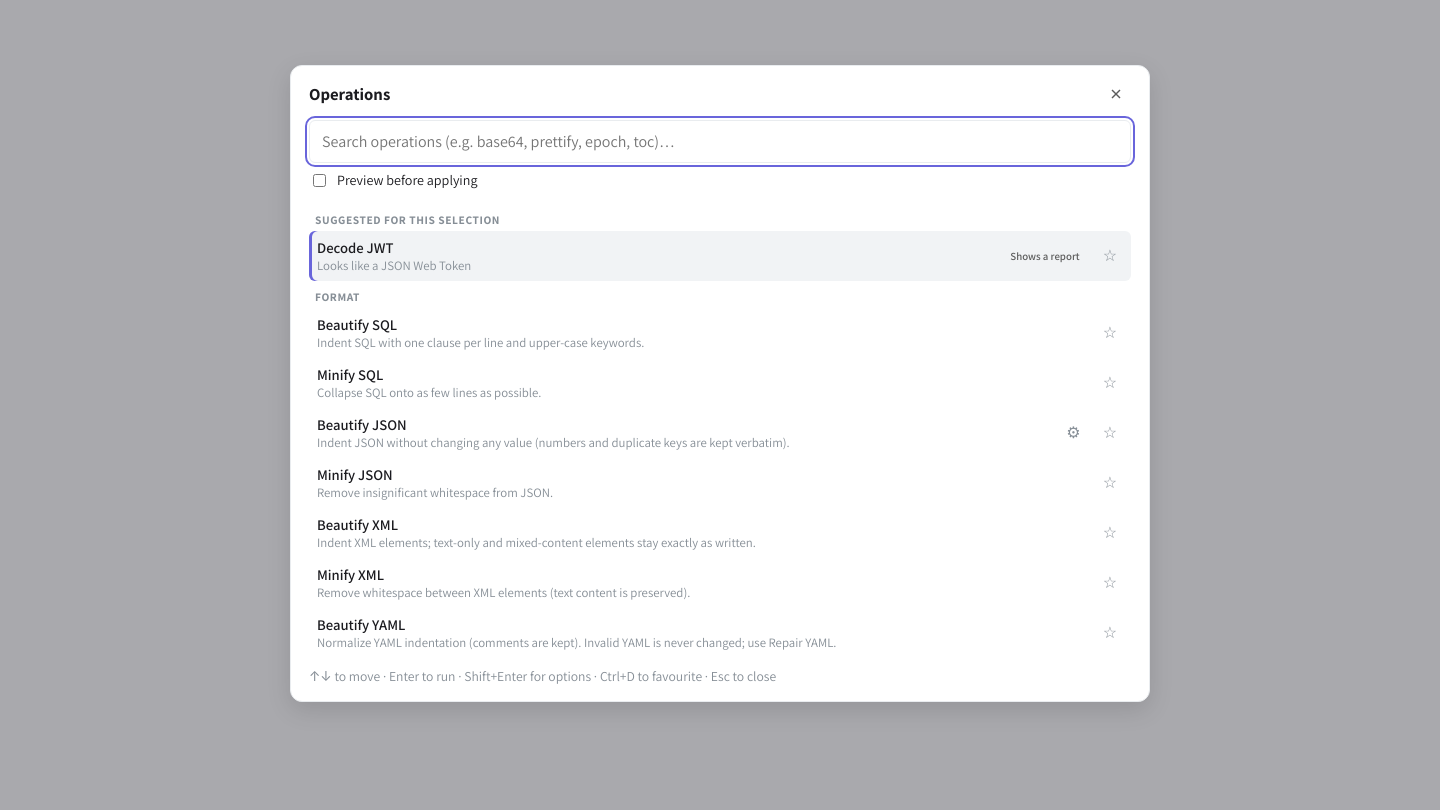
Test case: OperationPalette › shows warning badges, suggestions, favourites and recents
This screenshot has width=1440, height=810.
Later steps or results of the test are not shown.
expect the element "Suggested for this selection" shows "Looks like a JSON Web Token": met, box [317,257,471,274]
Type "md5" into the dropdown at [720, 141], box [309,120,1131,163]
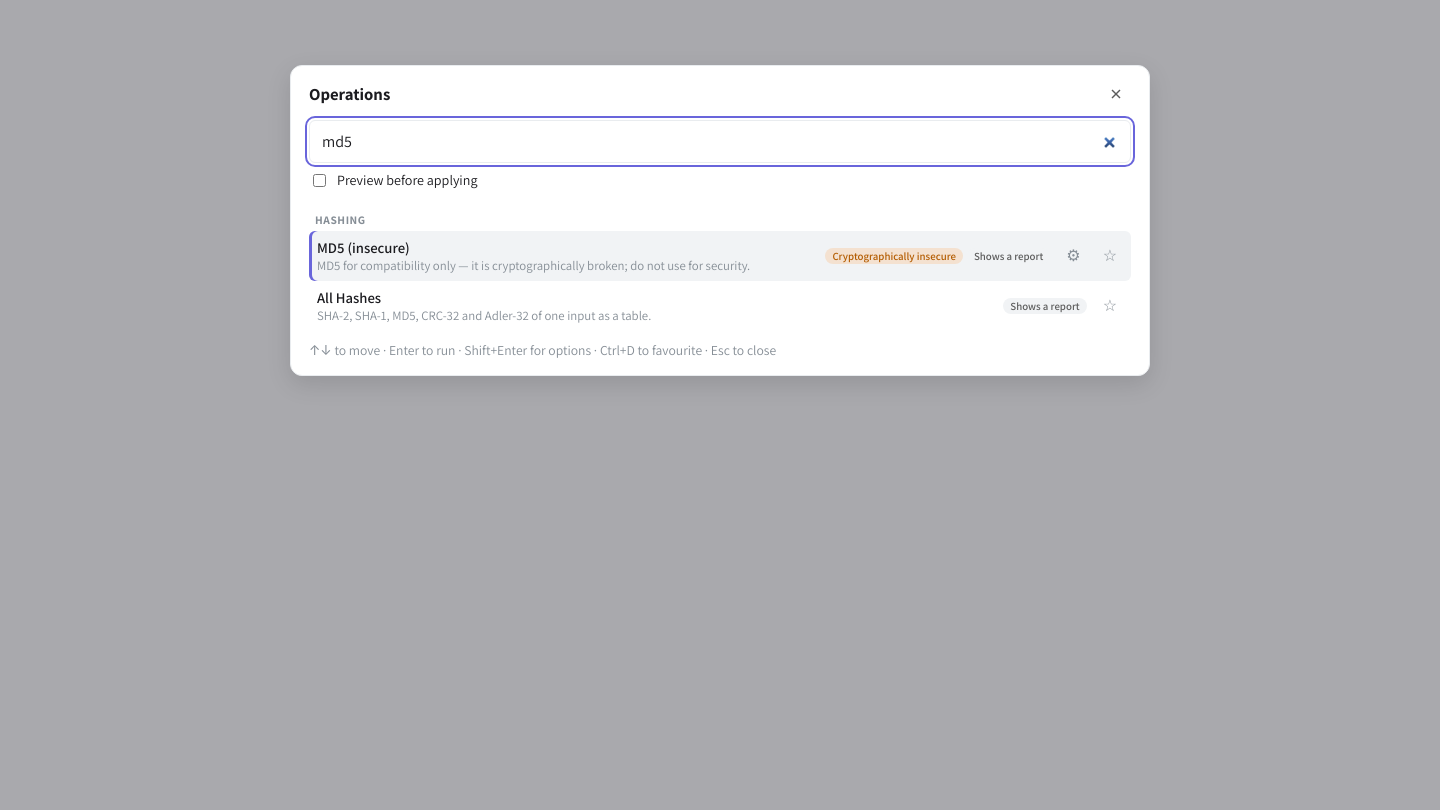
expect the option that starts with "MD5 (insecure)" shows "Cryptographically insecure": met, box [309,231,1131,281]
